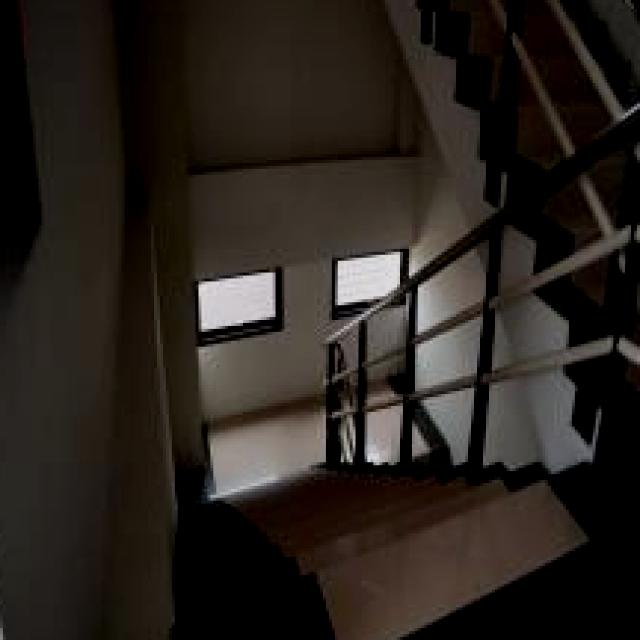downstair: (176, 460, 540, 640)
